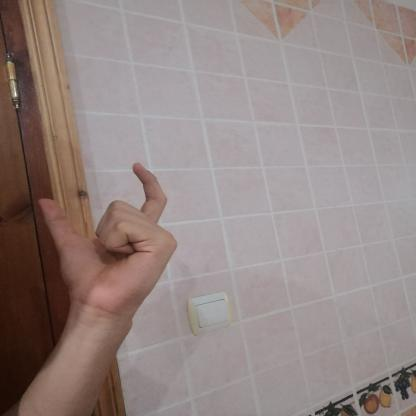NOON: (24, 150, 192, 334)
